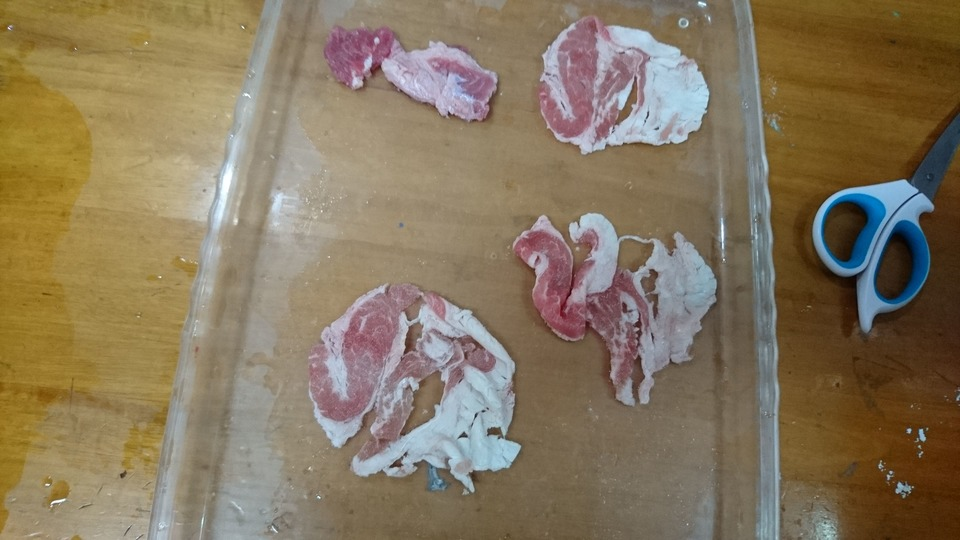restructured meat: (305, 271, 524, 498), (508, 212, 718, 408), (538, 13, 712, 158), (329, 22, 498, 131)
